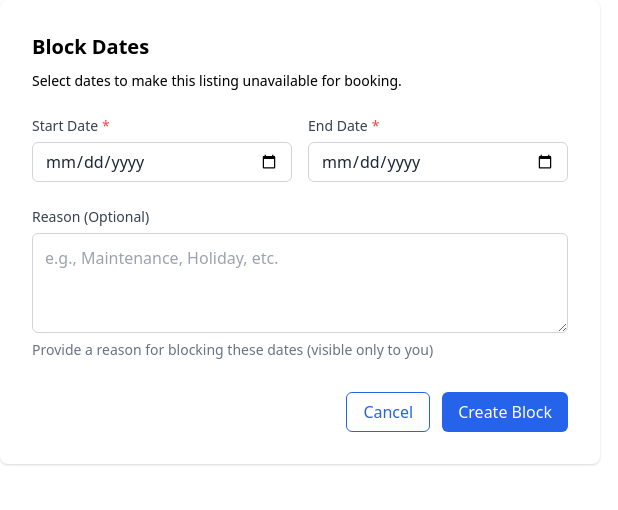
it: BlockForm › validates that end date is required
The width and height of the screenshot is (618, 510).
Type "2024-12-15" into the date field labelled "Start Date *" at point(162, 162), box [32,142,292,182]
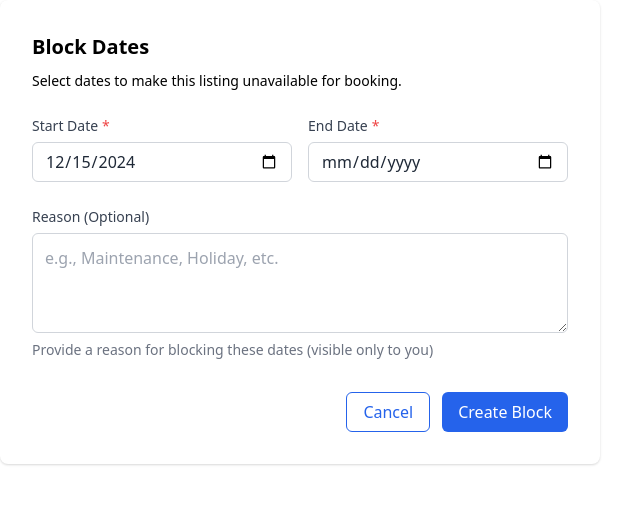
Submit the form named "create block", box [32,115,568,432]
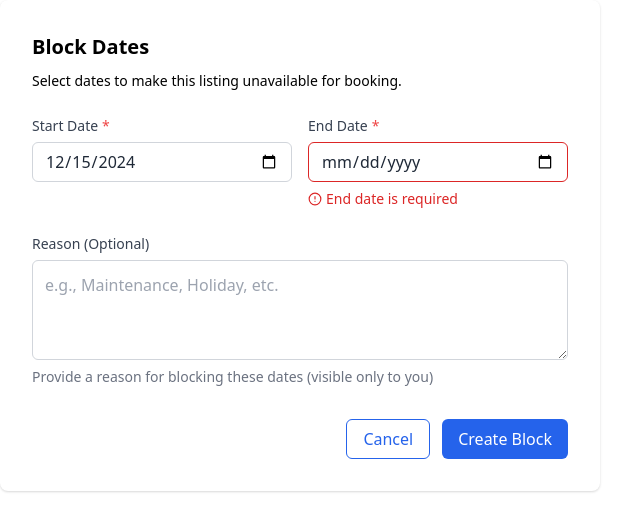
Result: the text "End date is required" is shown at [308,189,458,208]
